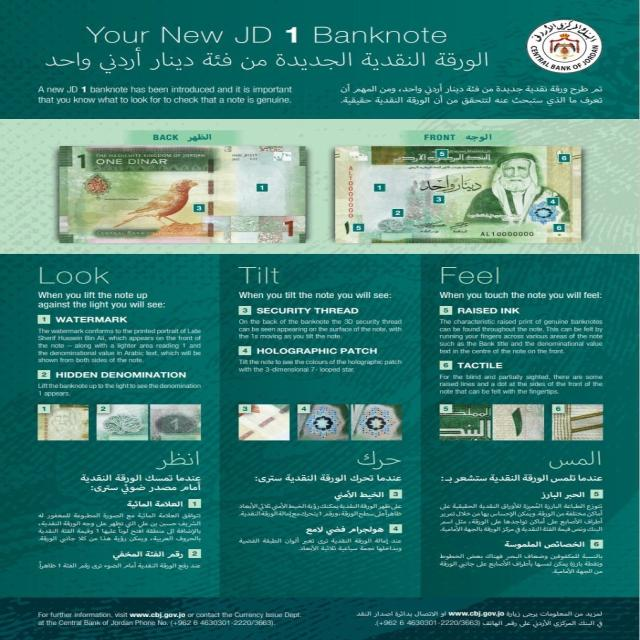1-dinar: (56, 143, 309, 244), (333, 144, 582, 244)
